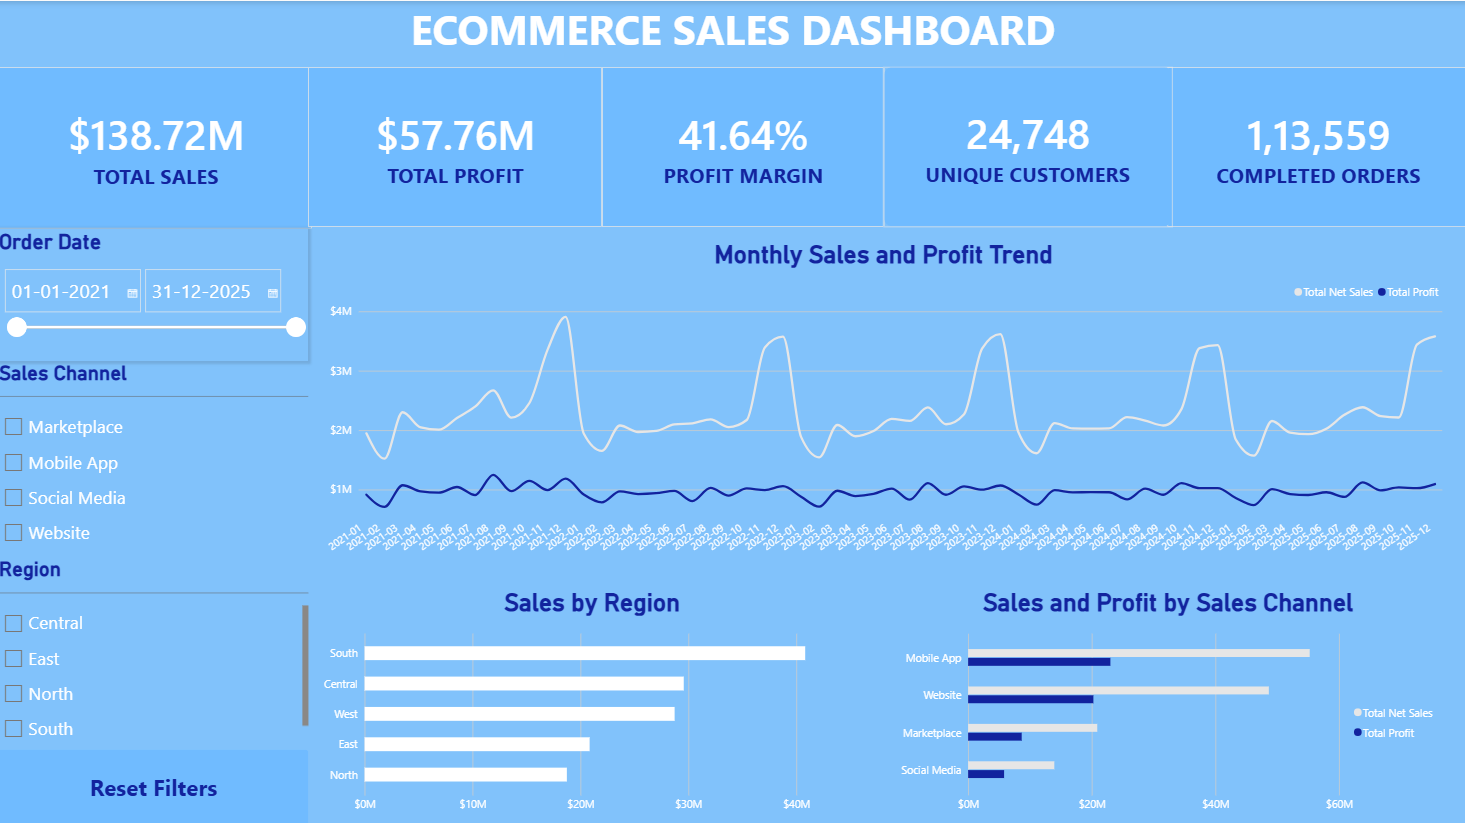

The page's visual inventory and layout, read from the dashboard file:
{"tool":"powerbi","page":{"name":"Page 1","canvas":[1920,1080],"ordinal":0},"visuals":[{"type":"cardVisual","fields":{"Data":["sales_analysis.Total Net Sales"]},"box":[0,86.4,409.1,211.4],"z":0},{"type":"cardVisual","fields":{"Data":["sales_analysis.Total Profit"]},"box":[404.5,86.4,384.1,209.1],"z":1000},{"type":"cardVisual","fields":{"Data":["sales_analysis.Profit Margin %"]},"box":[788.6,86.4,368.2,209.1],"z":2000},{"type":"cardVisual","fields":{"Data":["sales_analysis.Completed Orders"]},"box":[1527.3,86.4,393.2,209.1],"z":3000},{"type":"cardVisual","fields":{"Data":["sales_analysis.Unique Customers"]},"box":[1156.8,86.4,377.3,209.1],"z":4000},{"type":"lineChart","title":"Monthly Sales and Profit Trend","fields":{"Category":["sales_analysis.Year_Month"],"Y":["sales_analysis.Total Net Sales","sales_analysis.Total Profit"]},"box":[409.1,297.7,1493.2,454.5],"z":5000},{"type":"clusteredBarChart","title":"Sales by Region","fields":{"Category":["sales_analysis.region"],"Y":["sales_analysis.Total Net Sales"]},"box":[404.5,752.3,743,328],"z":6000},{"type":"clusteredBarChart","title":"Sales and Profit by Sales Channel","fields":{"Category":["sales_analysis.sales_channel"],"Y":["sales_analysis.Total Net Sales","sales_analysis.Total Profit"]},"box":[1156.8,752.3,743,328],"z":7000},{"type":"slicer","title":"Order Date","fields":{"Values":["sales_analysis.order_date"]},"box":[0,297.7,404.5,172.7],"z":8000},{"type":"slicer","title":"Region","fields":{"Values":["sales_analysis.region"]},"box":[0,727.3,404.5,252.3],"z":9000},{"type":"slicer","title":"Sales Channel","fields":{"Values":["sales_analysis.sales_channel"]},"box":[0,470.5,404.5,256.8],"z":10000},{"type":"actionButton","title":"Reset filters","box":[0,979.5,404.5,100],"z":11000},{"type":"textbox","box":[18.2,0,1884.1,86.4],"z":13000}]}

Visuals, with their boxes in screenshot pixels (x1, y1, x2, y2), scaled from the page's 1920x1080 canvas onto the 1465x823 screenshot:
cardVisual - sales_analysis.Total Net Sales: bbox(0, 66, 312, 227)
cardVisual - sales_analysis.Total Profit: bbox(309, 66, 602, 225)
cardVisual - sales_analysis.Profit Margin %: bbox(602, 66, 883, 225)
cardVisual - sales_analysis.Completed Orders: bbox(1165, 66, 1464, 225)
cardVisual - sales_analysis.Unique Customers: bbox(883, 66, 1171, 225)
"Monthly Sales and Profit Trend" lineChart: bbox(312, 227, 1451, 573)
"Sales by Region" clusteredBarChart: bbox(309, 573, 876, 822)
"Sales and Profit by Sales Channel" clusteredBarChart: bbox(883, 573, 1450, 822)
"Order Date" slicer: bbox(0, 227, 309, 358)
"Region" slicer: bbox(0, 554, 309, 746)
"Sales Channel" slicer: bbox(0, 359, 309, 554)
"Reset filters" actionButton: bbox(0, 746, 309, 822)
textbox: bbox(14, 0, 1451, 66)
